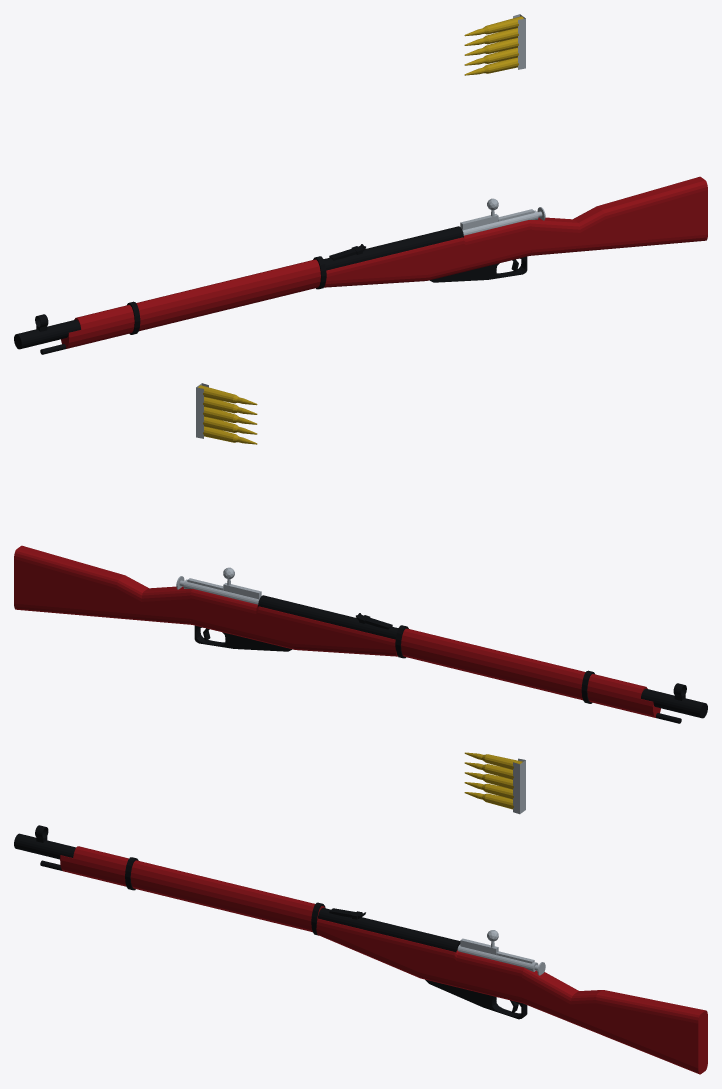
File: mosin-nagant0035.obj
3 views of the same model, one above another, from view 1: azimuth 30°, elevation 25°; view 2: azimuth 150°, elevation 25°; view 3: azimuth 330°, elevation 25° (orthographic).
Parts seen in each view (by area): view 1: stock, barrel, triggerGuard; view 2: stock, barrel, triggerGuard; view 3: stock, barrel, triggerGuard, clip, bolt.
Boxes of the visible parts, box(x1,y1,x2,y2) form: stock: box(61, 176, 707, 348); barrel: box(14, 226, 463, 349); triggerGuard: box(429, 256, 527, 282); stock: box(14, 545, 660, 717); barrel: box(258, 595, 707, 718); triggerGuard: box(194, 625, 292, 651); stock: box(60, 846, 707, 1074); barrel: box(14, 833, 460, 952); triggerGuard: box(425, 979, 527, 1019); clip: box(513, 758, 525, 814); bolt: box(457, 944, 538, 971).
Size of the model in its own units: 16.32 by 6.07 by 0.4228.
